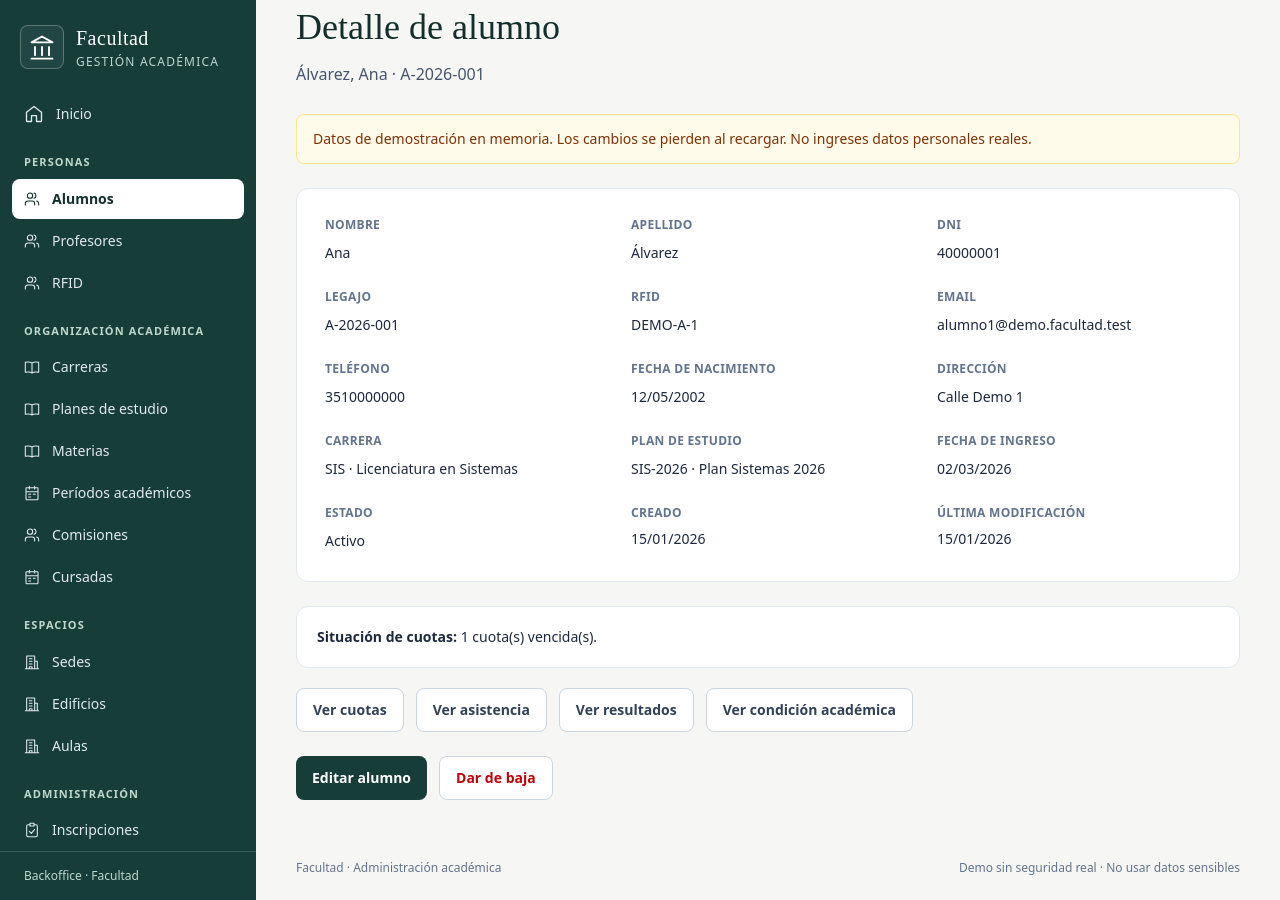
Scenario: Flujos de gestión académica › registra pago de cuota y actualiza la situación derivada del alumno
(page scrolled)
Expected: the text "Situación de cuotas: 1 cuota(s) vencida(s)." is shown, [296,606,1240,668]
Step 1. Click the link "Ver cuotas" → (350, 710), box [296,688,404,732]
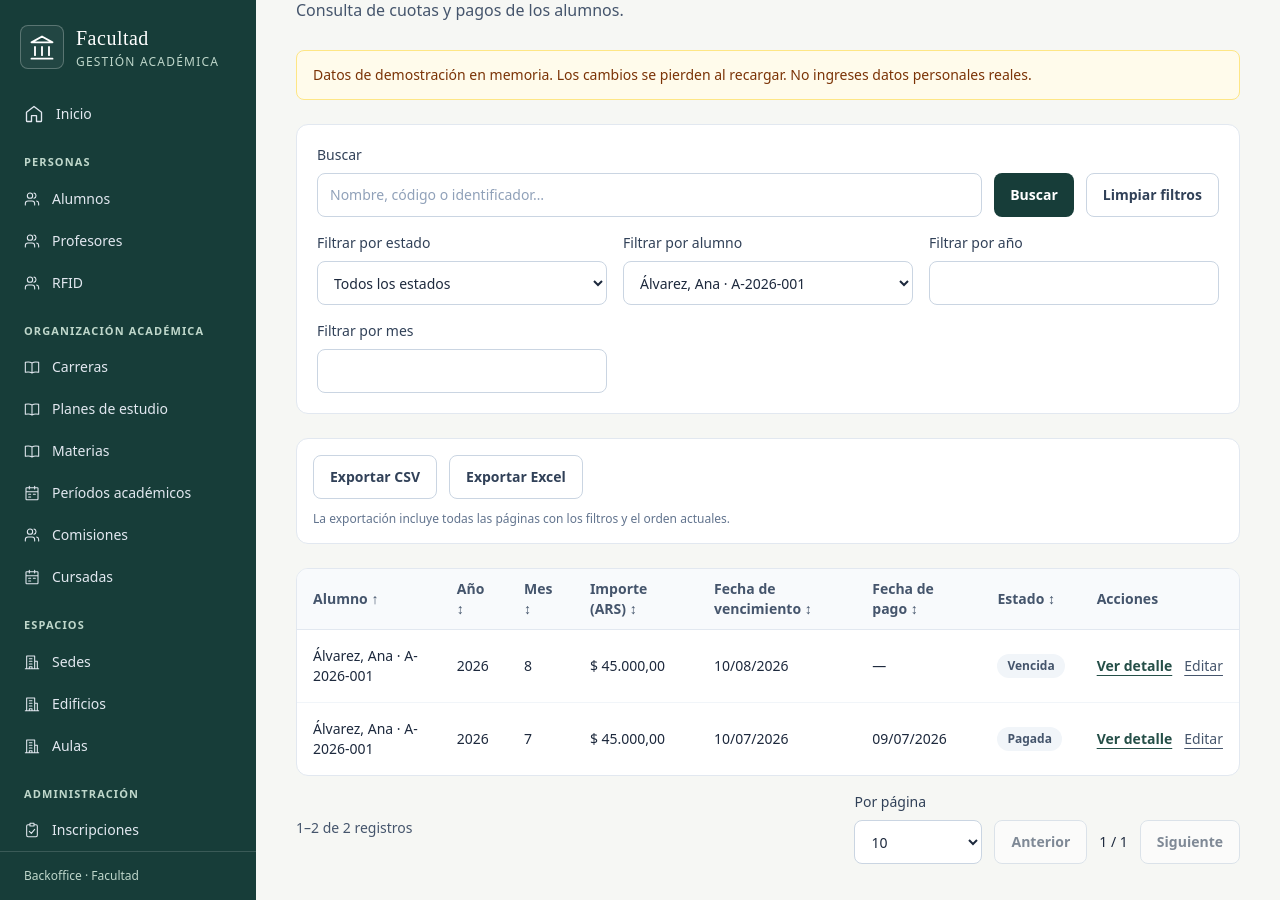
Expected: the dropdown labelled "Filtrar por alumno" shows "Álvarez, Ana · A-2026-001", [623,261,913,305]
Expected: the table is shown, [297,569,1239,775]
Step 2. Click the link "Editar" in the row of "10/08/2026" → (1204, 666), box [1184,656,1223,675]
(page scrolled)
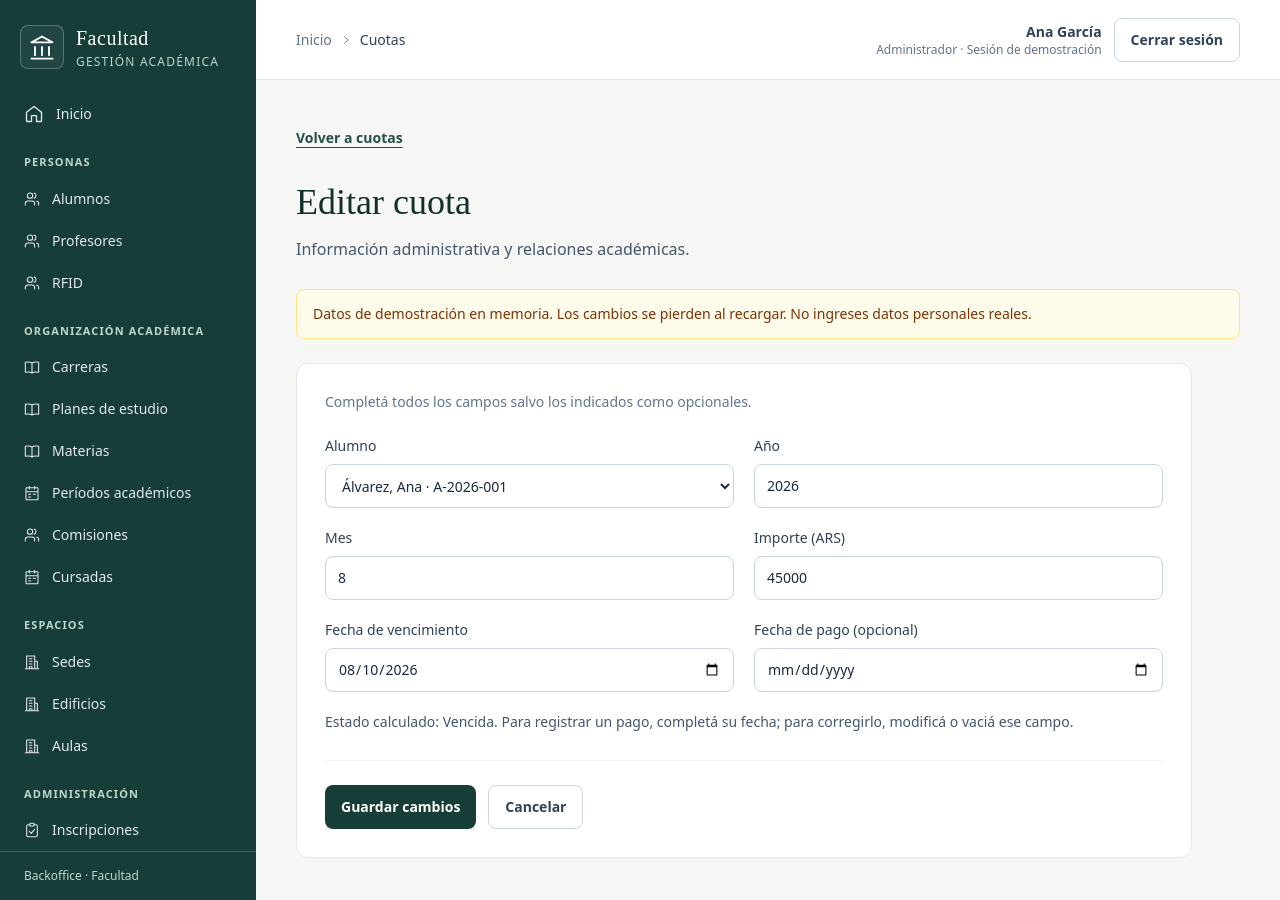
Expected: the date field labelled "Fecha de pago (opcional)" is shown
Step 3. Type "2026-09-18" into the date field labelled "Fecha de pago (opcional)" → (958, 670), box [754,648,1163,692]
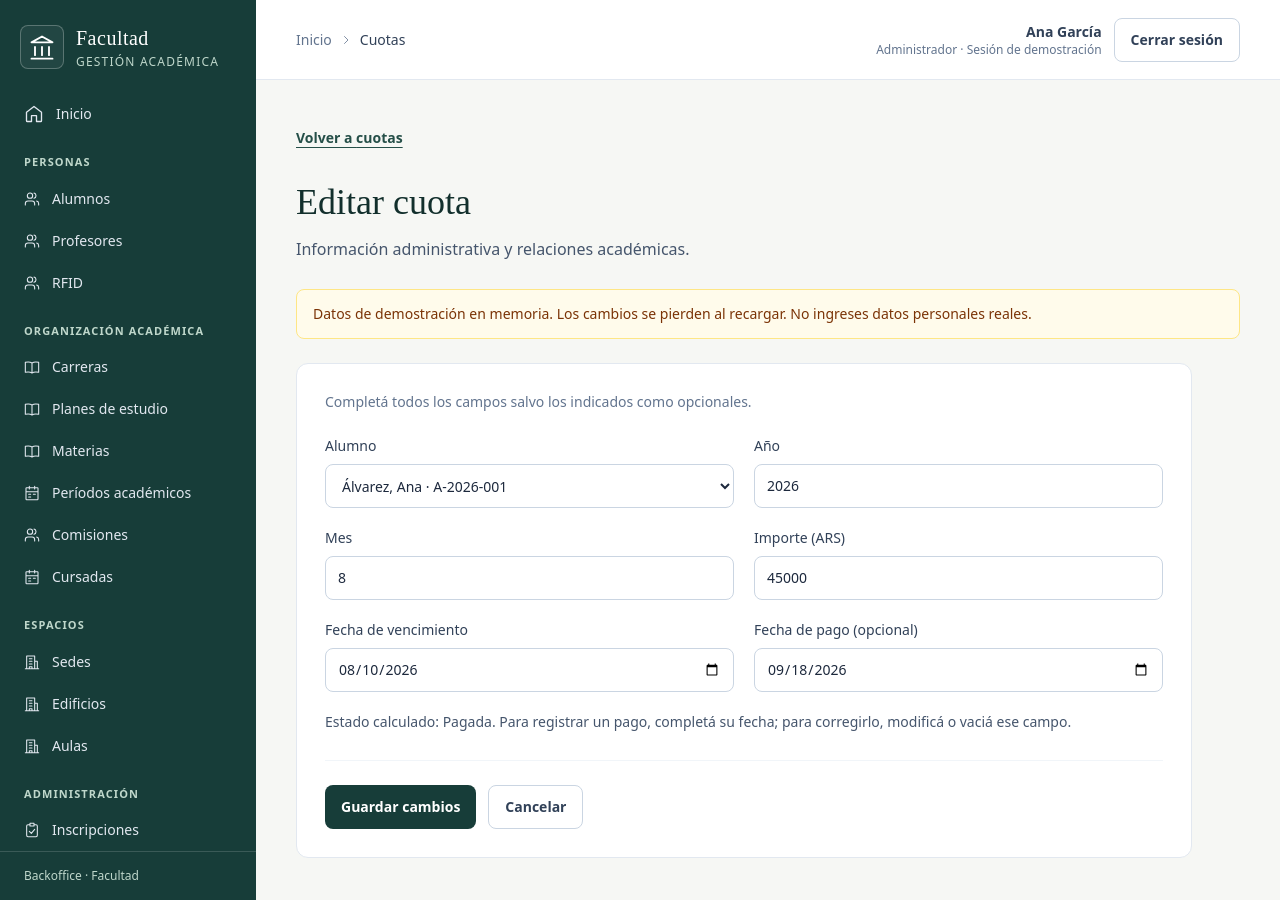
Expected: the message shows "Estado calculado: Pagada", [325,712,1163,732]
Step 4. Click the button "Guardar cambios" → (401, 807), box [325,785,476,829]
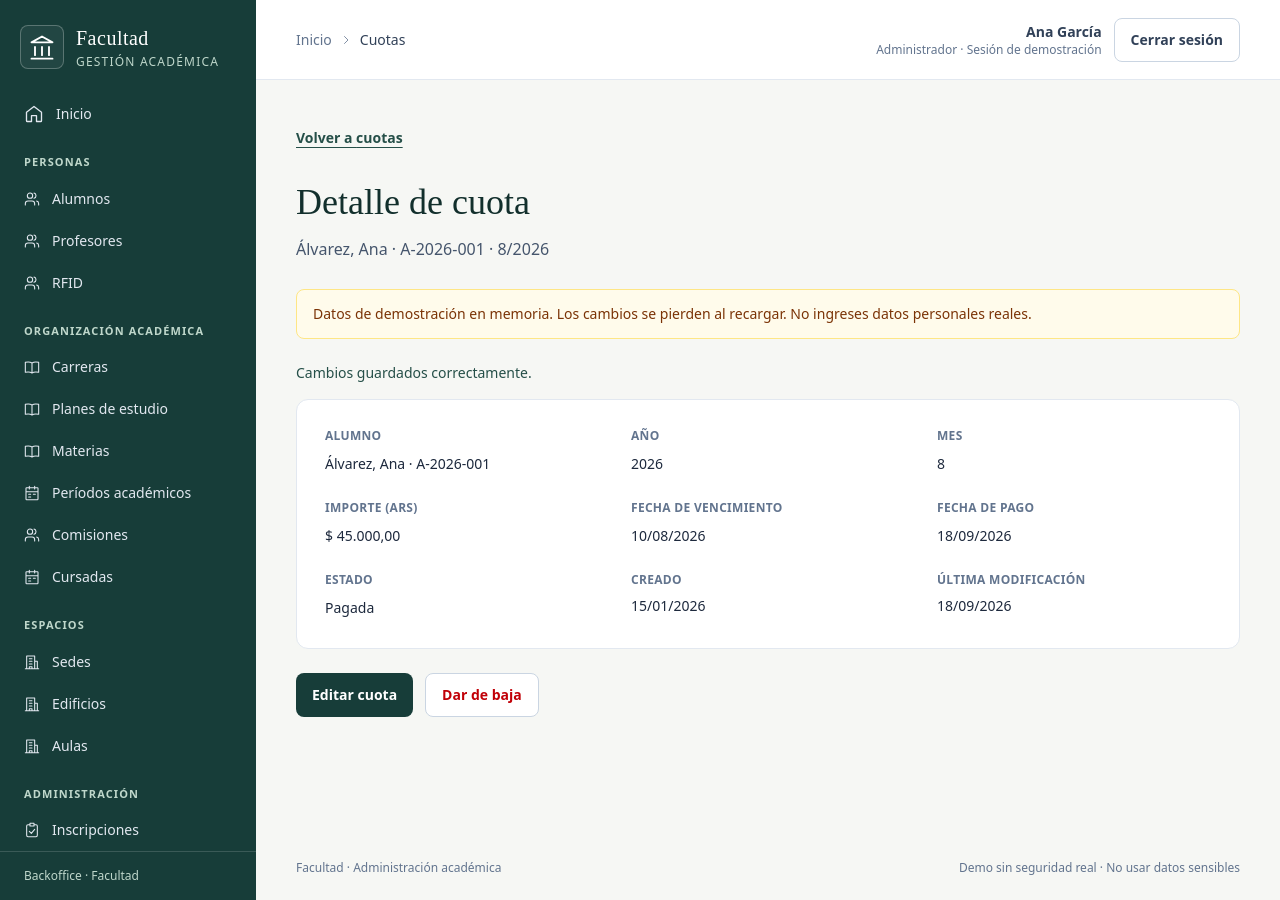
Expected: the text "Pagada" is shown, [325,598,374,617]
Step 5. Click the link "Alumnos" → (67, 198), box [24,188,110,208]
(page scrolled)
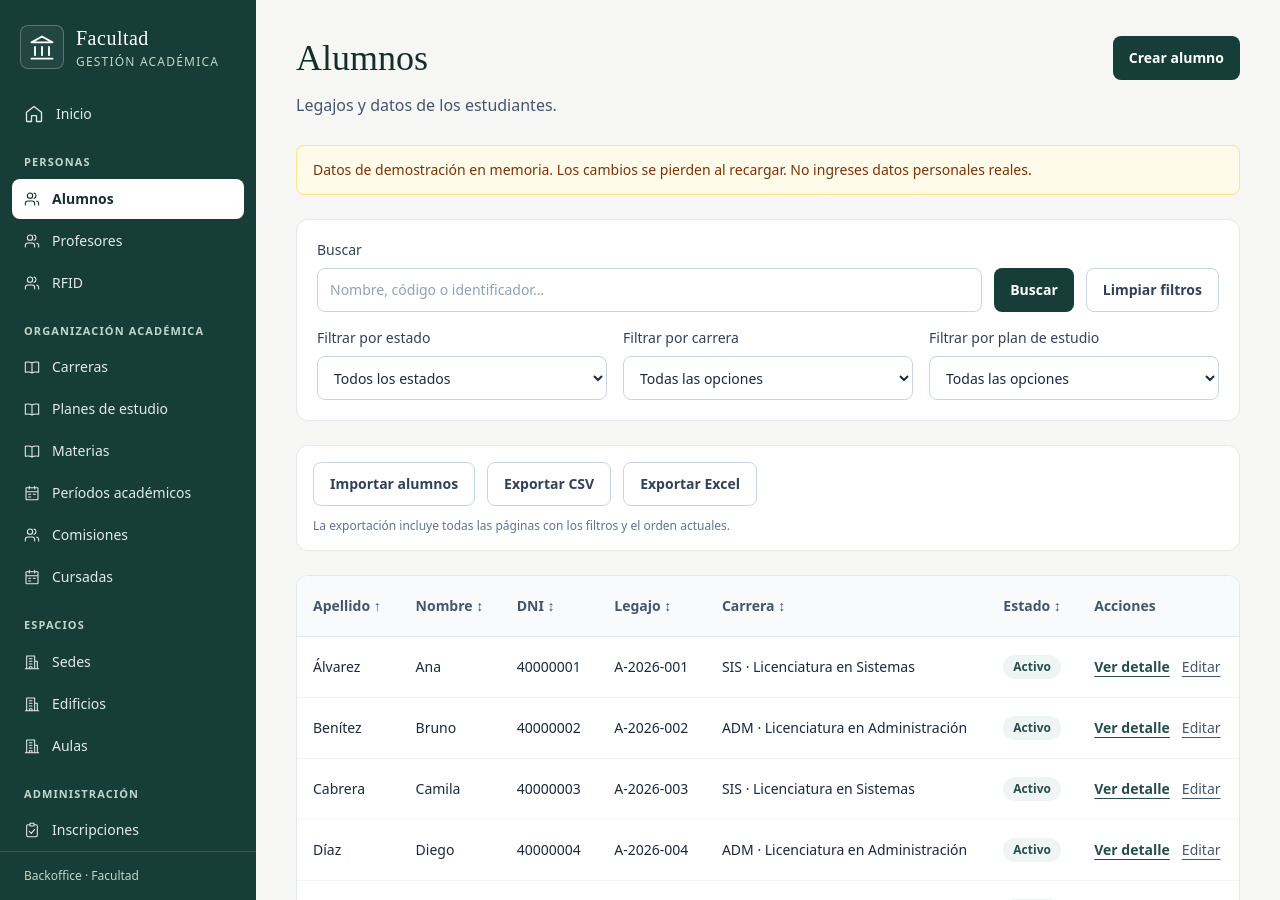
Step 6. Click the link with aria-label "Ver detalle de Álvarez" → (1132, 666), box [1094,657,1170,676]
(page scrolled)
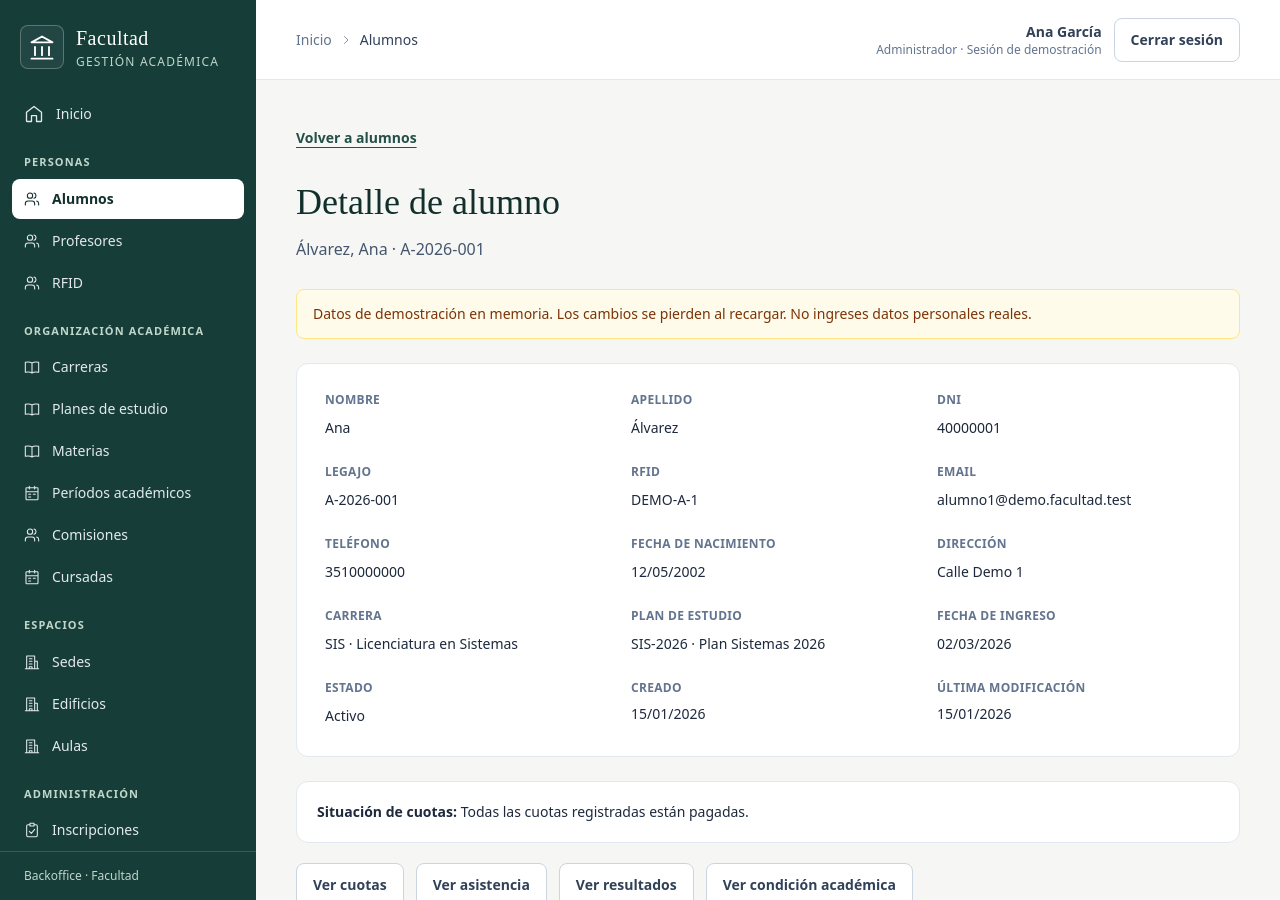
Expected: the text "Todas las cuotas registradas están pagadas" is shown, [461,802,745,821]
